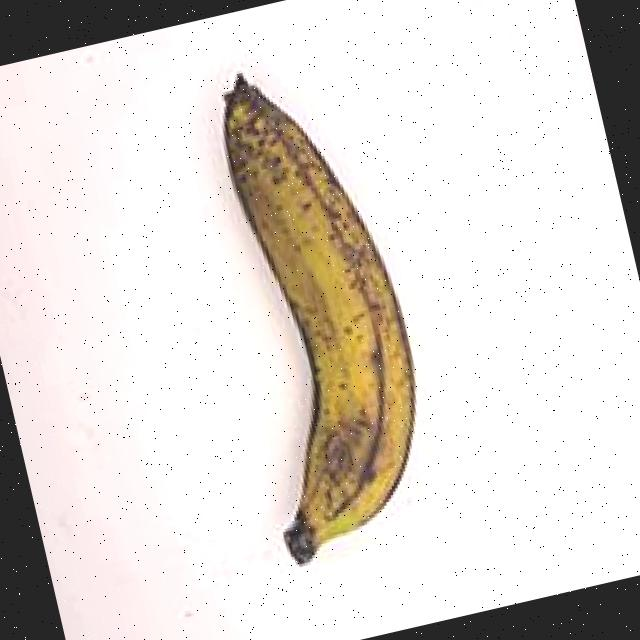Overripe: (118, 6, 510, 607)
